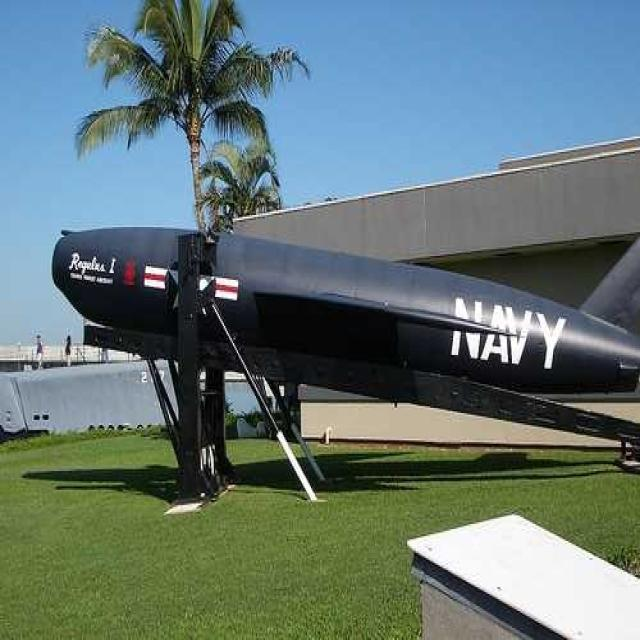missile: (50, 208, 640, 470)
